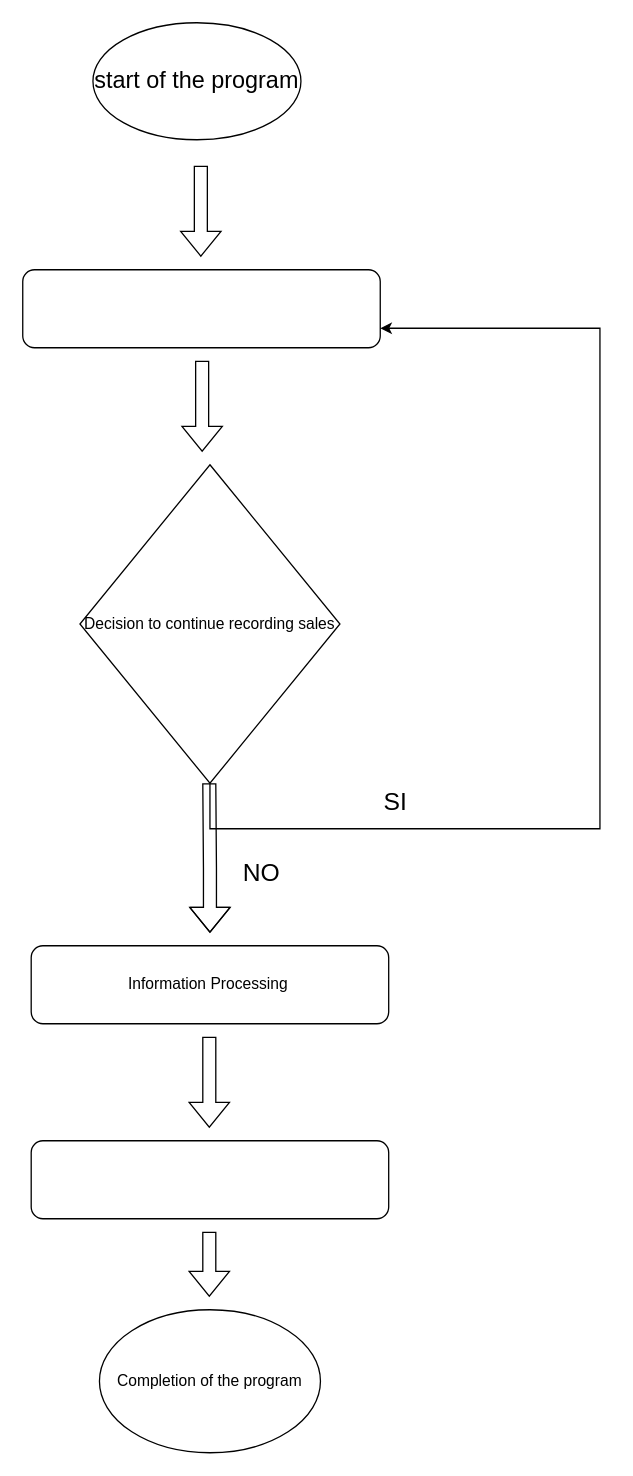
Some shapes in this 633 by 1476 pixel diagram are drawn without their labels. The shapes that lost their labels are listed below. From the top down, each one's box as (x1, y1, x2, y2) in pixels, then its label:
(21, 268, 380, 348): Data Capture
(30, 1139, 389, 1219): Generation of the final summary
